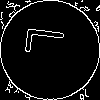L: (25, 25, 74, 59)
